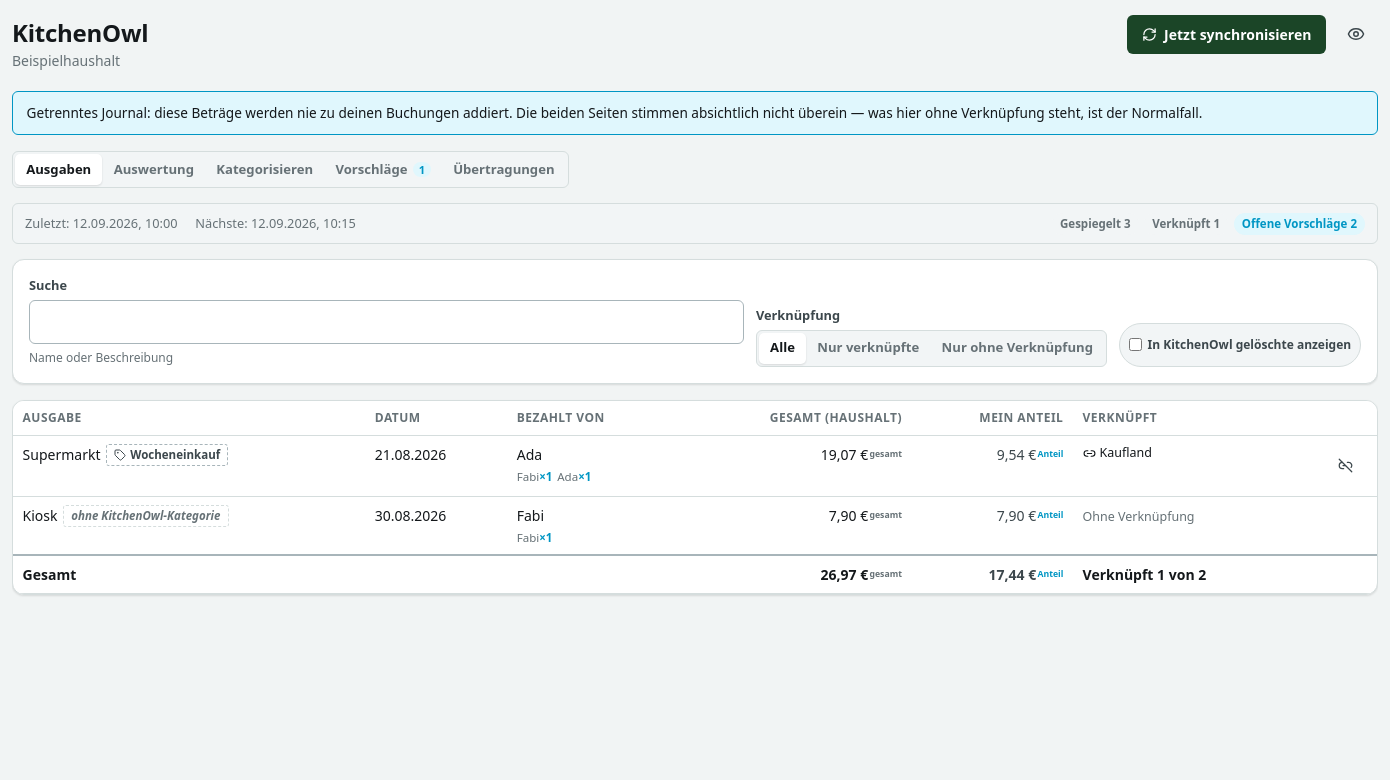
Scenario: the KitchenOwl ledger › runs a manual sync and reports what it did
The image size is (1390, 780).
Click the button "Jetzt synchronisieren". click: (1227, 34)
box: [1127,14,1326,54]
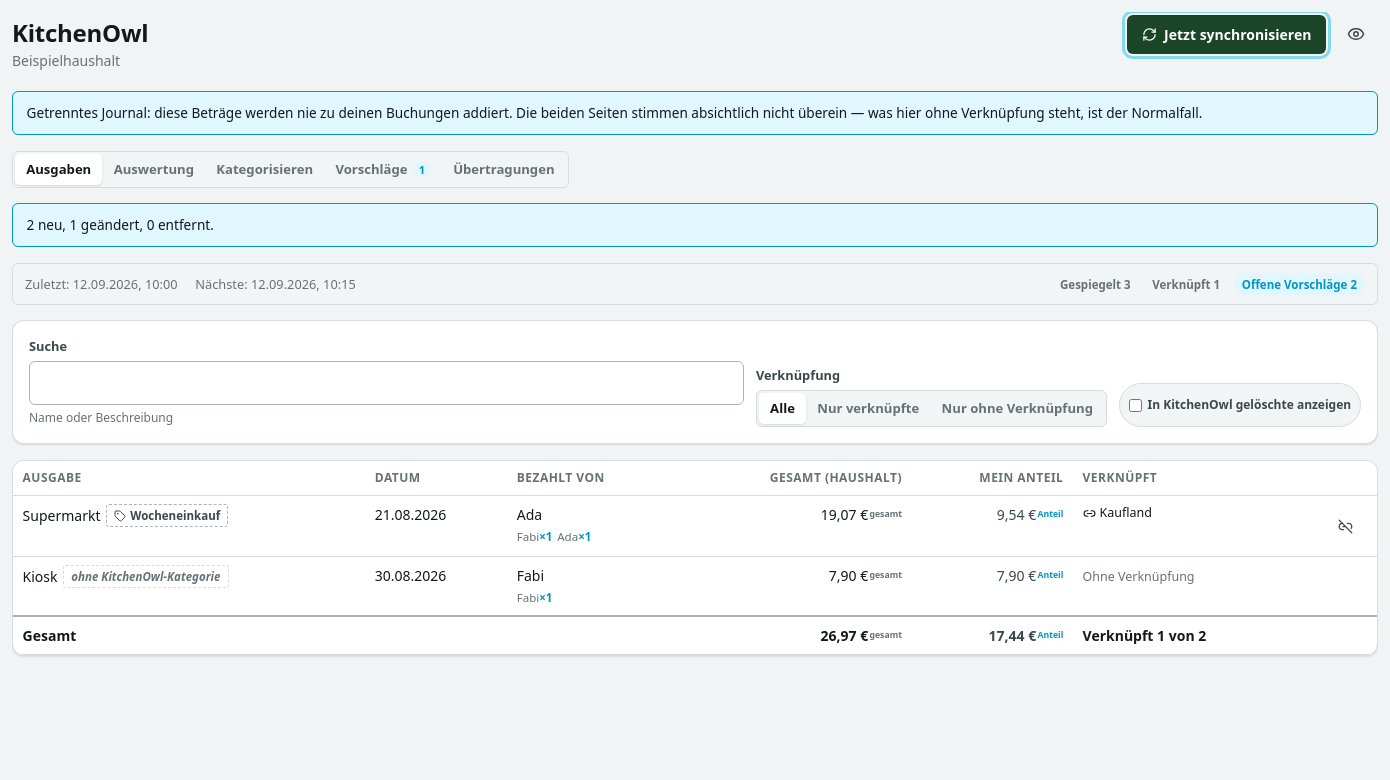
Now the text "2 neu, 1 geändert, 0 entfernt." is shown, box [27,215,214,235]
